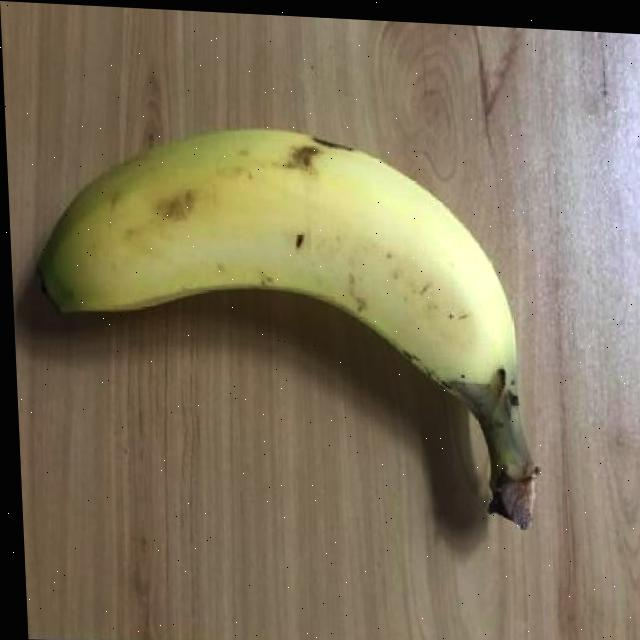banana: (26, 110, 546, 545)
